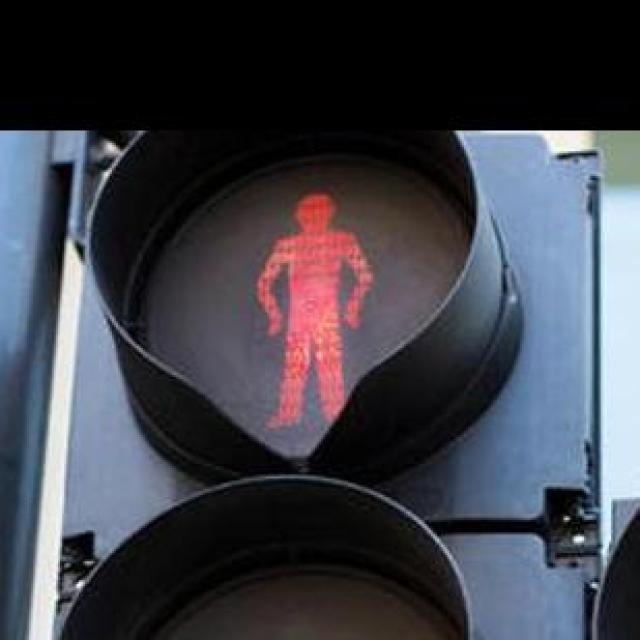red_light: (103, 149, 530, 487)
